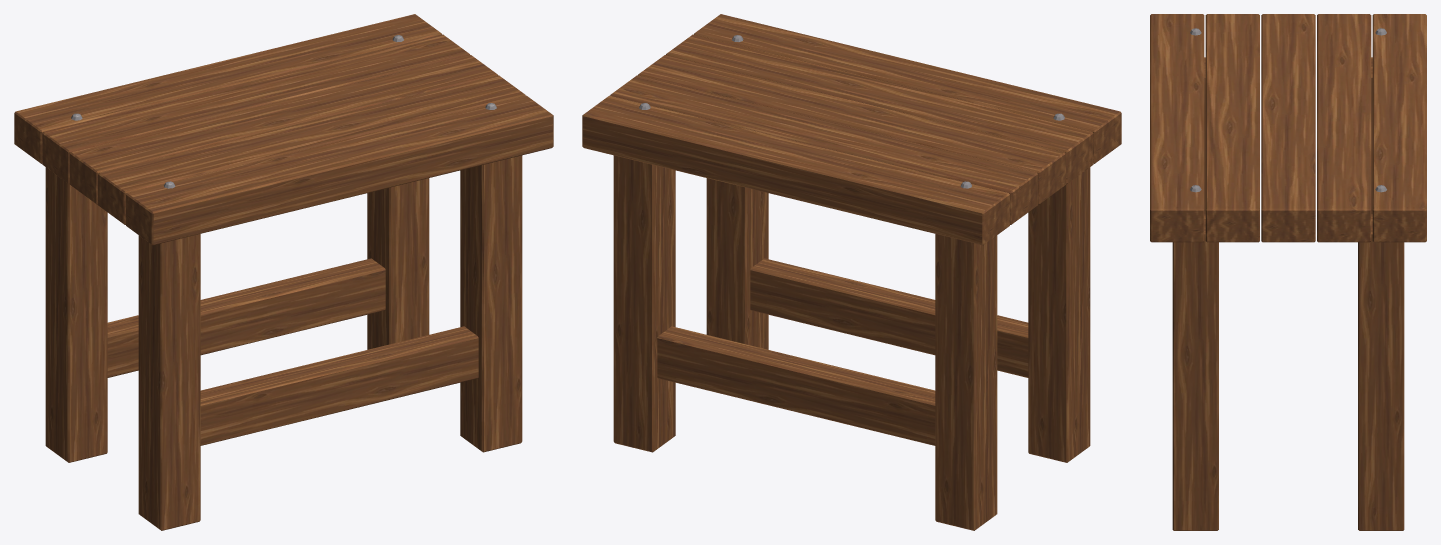
3 views of the same model, side by side, from view 1: azimuth 30°, elevation 25°; view 2: azimuth 150°, elevation 25°; view 3: azimuth 270°, elevation 25° (orthographic).
Parts seen in each view (by area): view 1: source; view 2: source; view 3: source.
Boxes of the visible parts, left/top/right/bottom form: source: left=14, top=14, right=553, bottom=530; source: left=582, top=14, right=1121, bottom=530; source: left=1150, top=14, right=1426, bottom=530.
Size of the model in its own units: 1 by 0.8 by 0.597.
Materials: 2 (2 with a texture image).
